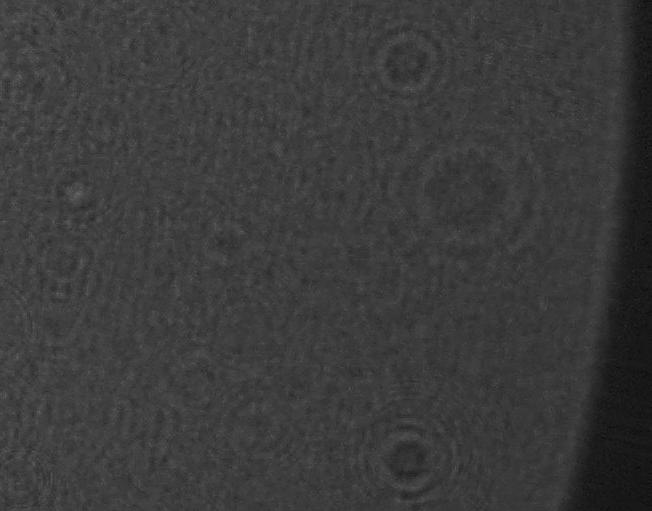bead: (347, 406, 438, 511), (352, 14, 443, 113), (0, 274, 44, 383)
